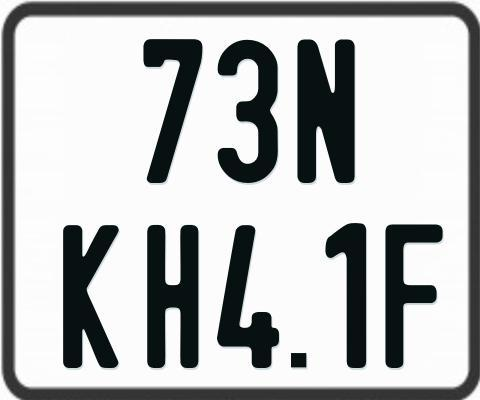1: (323, 223, 366, 368)
3: (215, 37, 277, 183)
4: (216, 223, 278, 367)
7: (141, 38, 206, 182)
F: (384, 222, 448, 368)
H: (145, 225, 199, 373)
K: (60, 222, 116, 366)
N: (295, 39, 354, 186)
